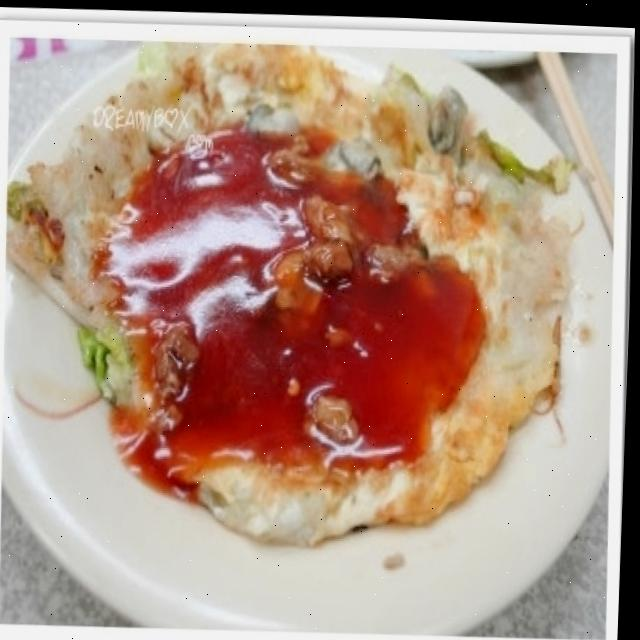熟制海鲜: (3, 37, 591, 595)
